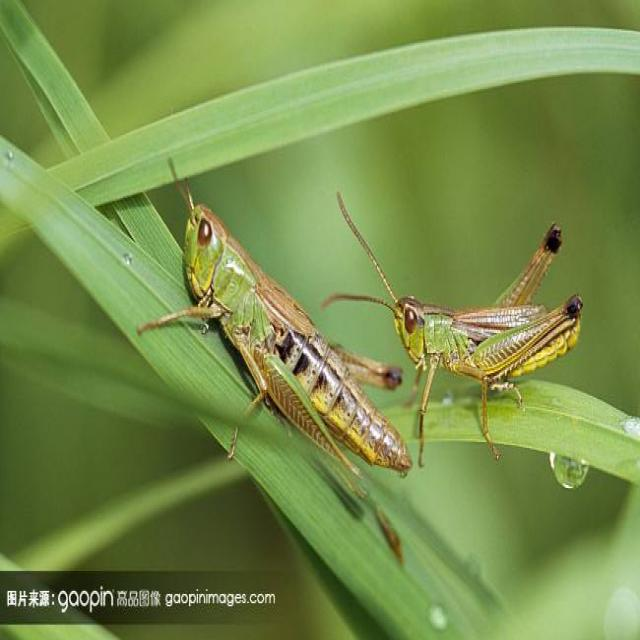ZhaMeng: (143, 202, 416, 503), (364, 204, 598, 407)
